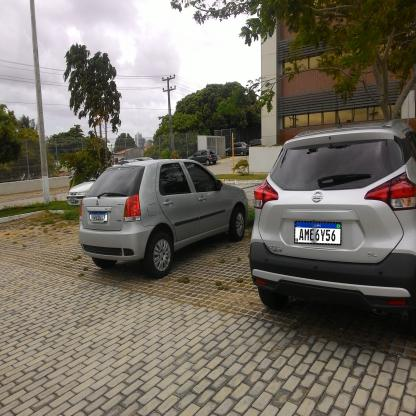PlacaM: (294, 221, 342, 245), (90, 212, 107, 221)
